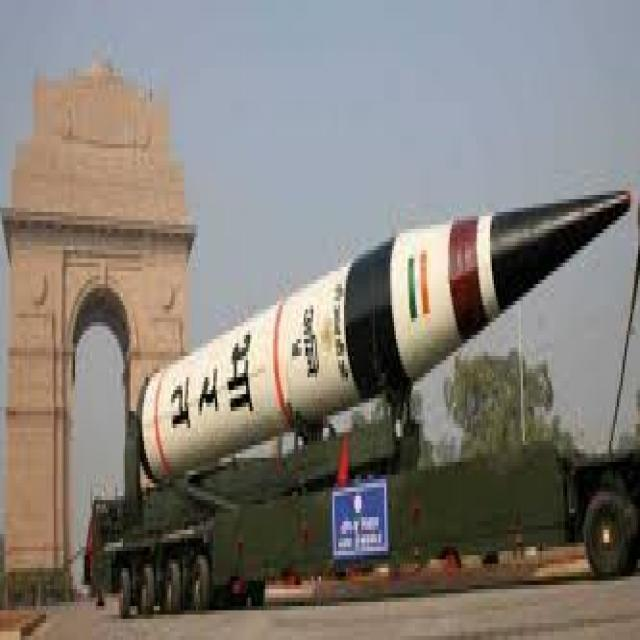Missile: (122, 180, 640, 502)
